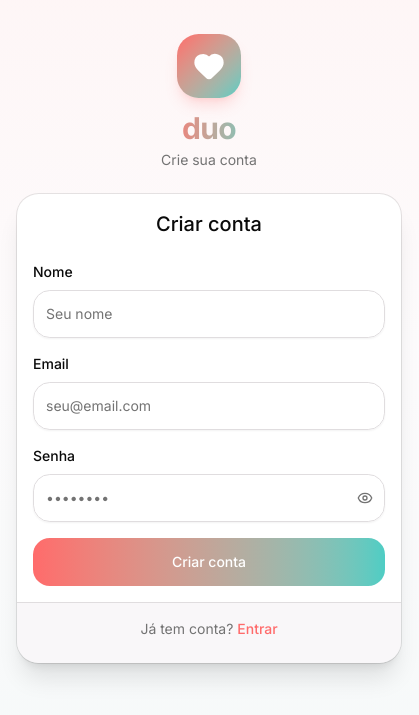
Test: RegisterPage › should show error on failed registration
In the field labelled "Nome": (209, 314) x1=33 y1=290 x2=385 y2=338, type "Test"
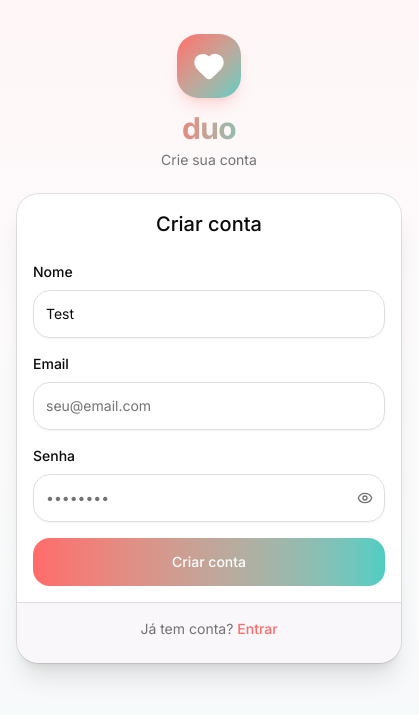
In the field labelled "Email": (209, 406) x1=33 y1=382 x2=385 y2=430, type "test@test.com"
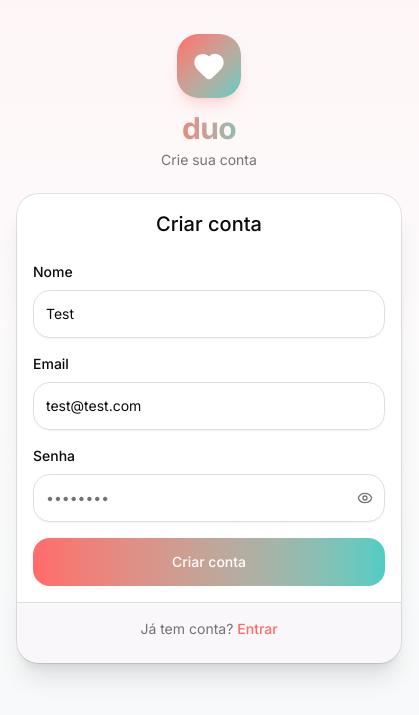
In the password field labelled "Senha": (209, 498) x1=33 y1=474 x2=385 y2=522, type "123456"
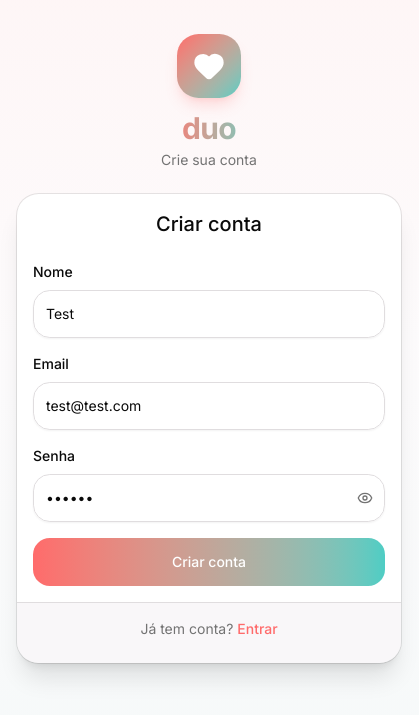
Click the button "Criar conta": click(209, 562) x1=33 y1=538 x2=385 y2=586
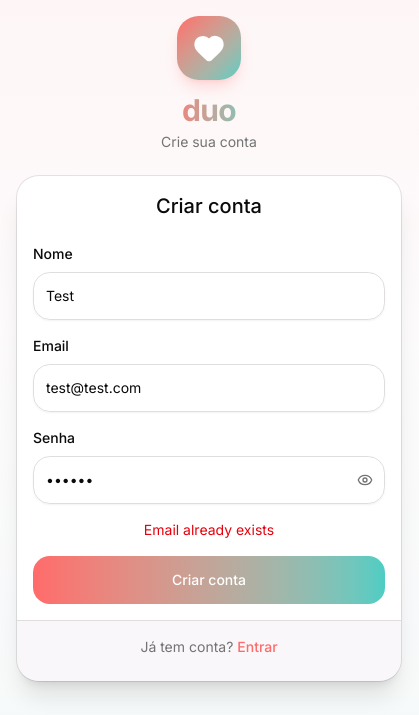
Result: the text "Email already exists" is shown at x1=144 y1=520 x2=274 y2=538
